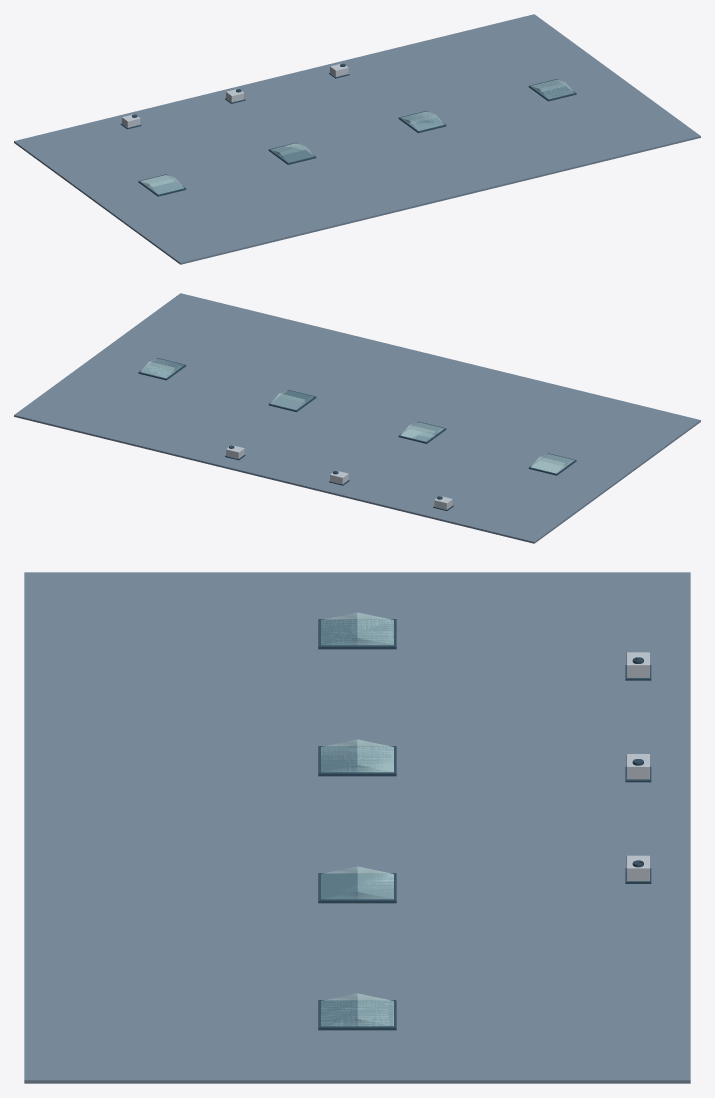
Rendered from CM_Shell_Roof_MegaMart.fbx.
3 views of the same model, one above another, from view 1: azimuth 30°, elevation 25°; view 2: azimuth 150°, elevation 25°; view 3: azimuth 270°, elevation 25° (orthographic). The views are drawn at different scales.
Visible parts, largest first — view 1: Roof, Glass; view 2: Roof, Glass; view 3: Roof, Glass.
Boxes of the visible parts, left/top/right/bottom form: Roof: left=14, top=14, right=700, bottom=264; Glass: left=140, top=79, right=573, bottom=194; Roof: left=14, top=293, right=700, bottom=543; Glass: left=140, top=359, right=574, bottom=473; Roof: left=24, top=572, right=690, bottom=1083; Glass: left=321, top=612, right=393, bottom=1026.
Bounding box in the file's own units: 184 × 102 × 3.6.
Materials: 2 (2 with a texture image).
